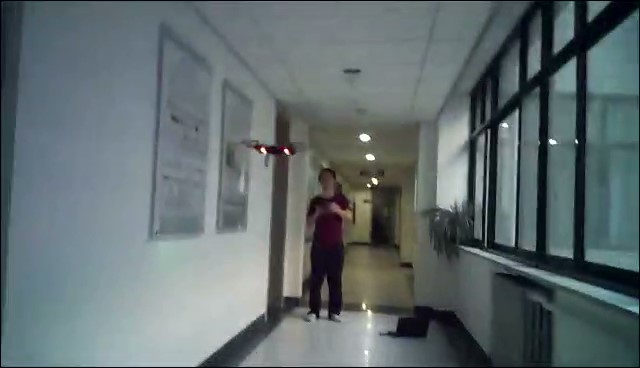drone: (240, 138, 309, 168)
person: (304, 167, 355, 325)
